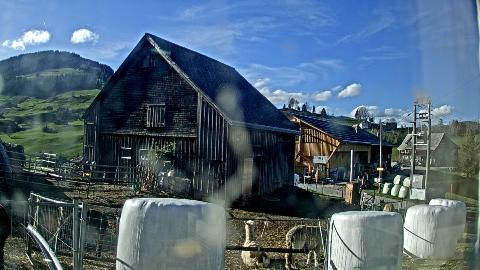car: (390, 166, 402, 174), (418, 160, 426, 166)
sheep: (48, 210, 108, 258), (286, 224, 328, 270), (242, 220, 270, 268), (0, 204, 12, 270), (380, 200, 394, 212)
